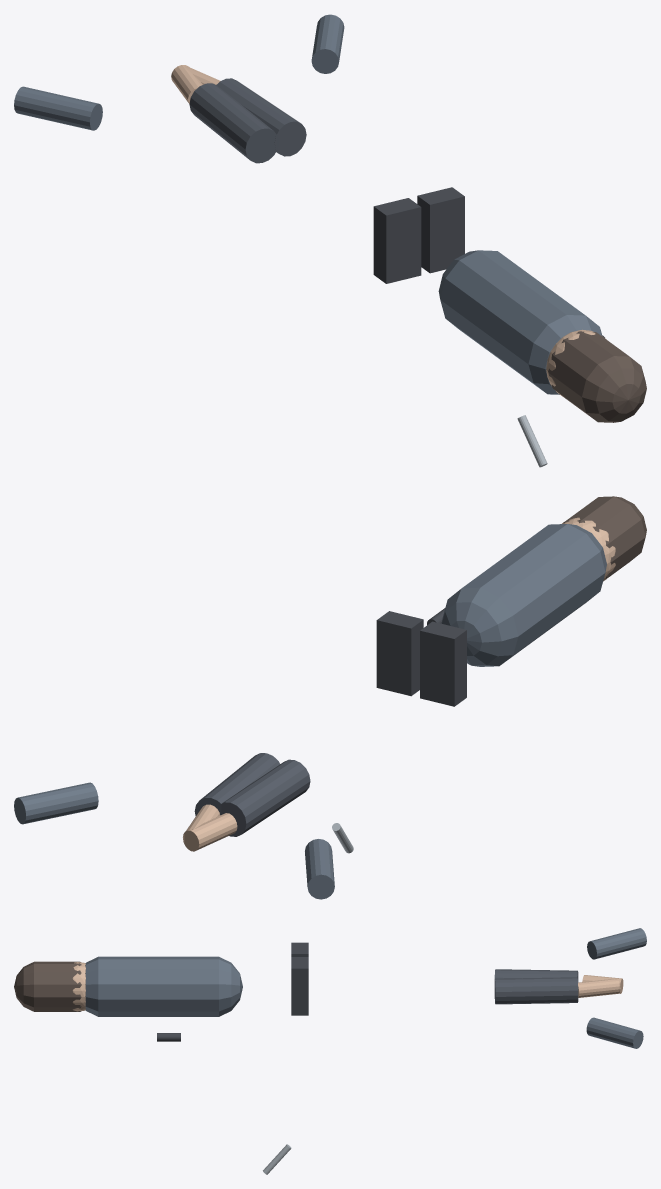
The model's file is singer.glb.
3 views of the same model, one above another, from view 1: azimuth 30°, elevation 25°; view 2: azimuth 150°, elevation 25°; view 3: azimuth 270°, elevation 25° (orthographic). The views are drawn at different scales.
Parts seen in each view (by area): view 1: Singer_torso, Singer_hair, Singer_shoe_L, Singer_leg_R, Singer_shoe_R, Singer_upper_arm_L, Singer_leg_L, Singer_upper_arm_R, Singer_forearm_R; view 2: Singer_torso, Singer_shoe_L, Singer_shoe_R, Singer_leg_R, Singer_hair, Singer_upper_arm_R, Singer_leg_L, Singer_upper_arm_L, Singer_forearm_R, Singer_head; view 3: Singer_torso, Singer_hair, Singer_leg_L, Singer_upper_arm_L, Singer_upper_arm_R, Singer_shoe_R, Singer_leg_R, Singer_forearm_L, Singer_head.
Part boxes in pixels (x1,y1,x2,y2): Singer_torso: (438,250,602,394); Singer_hair: (548,331,646,422); Singer_shoe_L: (373,198,421,283); Singer_leg_R: (189,83,278,163); Singer_shoe_R: (417,187,464,273); Singer_upper_arm_L: (14,86,102,130); Singer_leg_L: (216,78,306,156); Singer_upper_arm_R: (311,14,344,73); Singer_forearm_R: (171,65,202,103); Singer_torso: (441,524,606,666); Singer_shoe_L: (420,621,466,706); Singer_shoe_R: (376,611,423,696); Singer_leg_R: (221,759,310,836); Singer_hair: (563,496,646,578); Singer_upper_arm_R: (14,782,98,824); Singer_leg_L: (194,753,279,815); Singer_upper_arm_L: (305,839,334,899); Singer_forearm_R: (183,813,237,851); Singer_head: (562,517,615,581); Singer_torso: (85,956,242,1016); Singer_hair: (14,961,81,1011); Singer_leg_L: (494,977,578,1004); Singer_upper_arm_L: (587,928,646,959); Singer_upper_arm_R: (586,1017,643,1048); Singer_shoe_R: (291,957,308,1015); Singer_leg_R: (494,969,578,982); Singer_forearm_L: (578,979,620,997); Singer_head: (72,962,85,1011).
Size of the model in its own units: 1.5 by 1.19 by 3.67.
